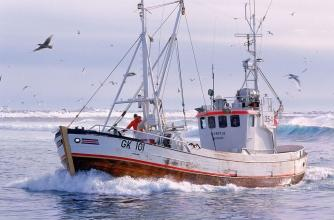bird: (28, 34, 57, 55)
otherboat: (40, 86, 309, 183)
